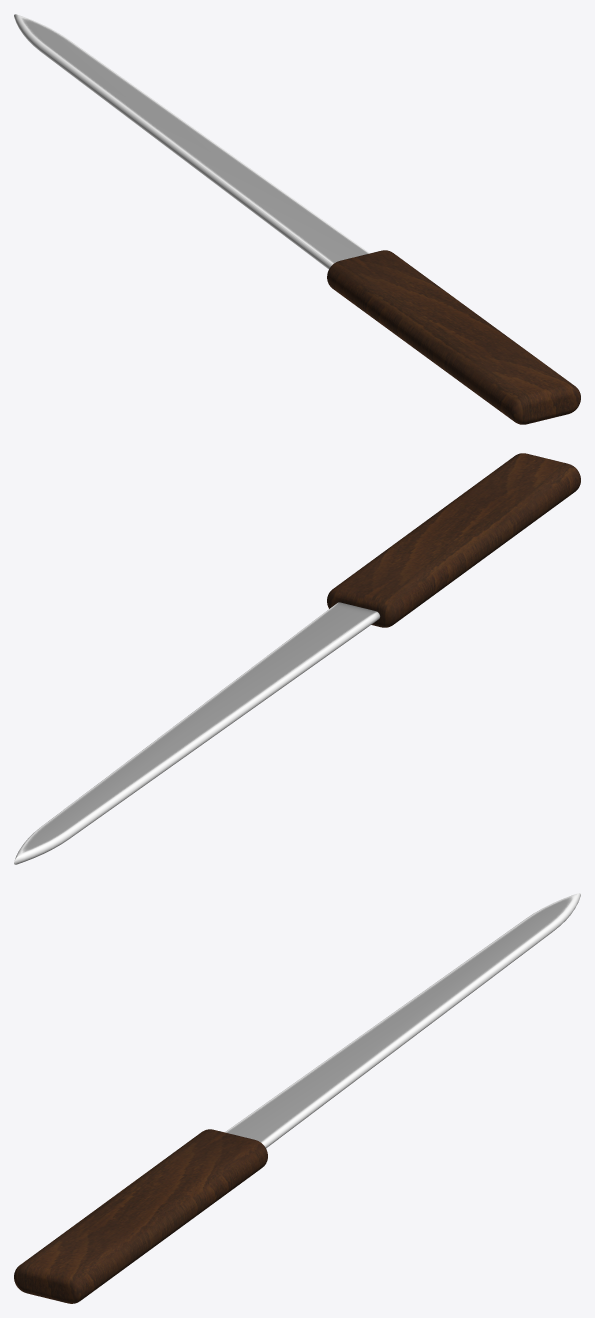
The model's file is nog.obj.
The picture shows the model from 3 angles, top to bottom: view 1: azimuth 30°, elevation 25°; view 2: azimuth 150°, elevation 25°; view 3: azimuth 330°, elevation 25°; orthographic projection.
Visible parts, largest first — view 1: ruchka, lezva; view 2: ruchka, lezva; view 3: ruchka, lezva.
Boxes of the visible parts, x1,y1,x2,y2 form: ruchka: (327, 250, 580, 424); lezva: (14, 14, 369, 269); ruchka: (327, 453, 580, 627); lezva: (14, 602, 380, 864); ruchka: (14, 1129, 267, 1303); lezva: (225, 893, 580, 1148).
Bounding box in the file's own units: 0.025 × 0.01 × 0.3352.
Materials: 1 (1 with a texture image).
